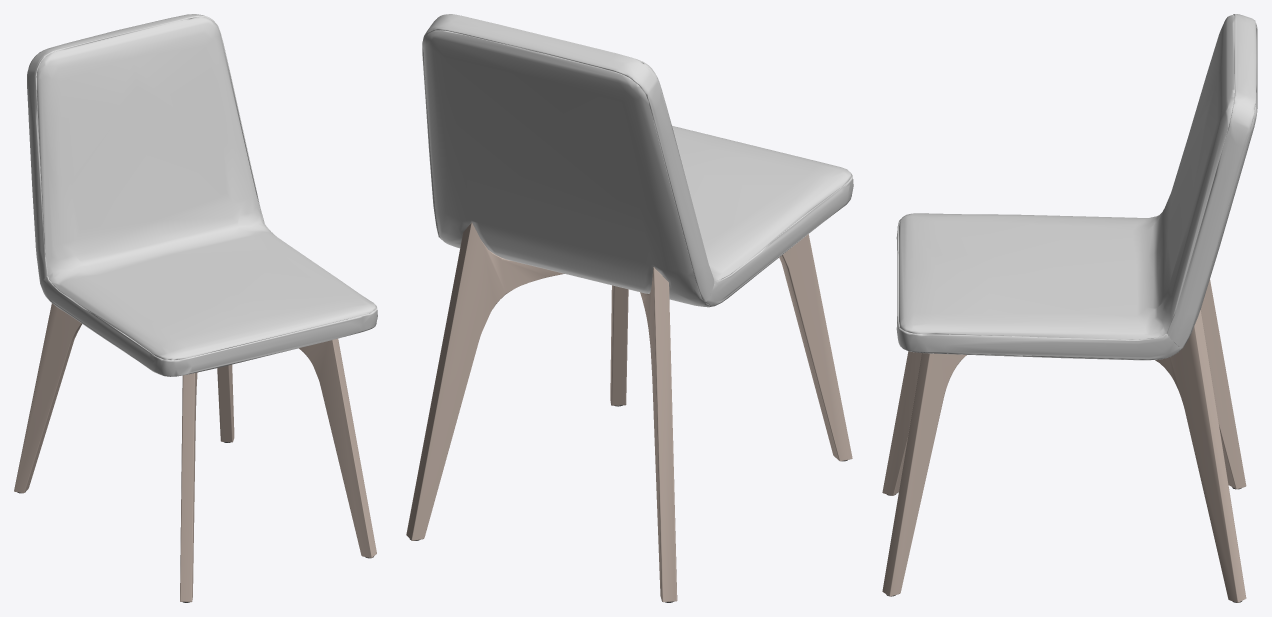
The picture shows the model from 3 angles, left to right: view 1: azimuth 30°, elevation 25°; view 2: azimuth 150°, elevation 25°; view 3: azimuth 270°, elevation 25°; orthographic projection. The views are drawn at different scales.
Visible parts, largest first — view 1: ligneroset_vik_ch_01_mat_1__1, ligneroset_vik_ch_01_mat_1__2; view 2: ligneroset_vik_ch_01_mat_1__1, ligneroset_vik_ch_01_mat_1__2; view 3: ligneroset_vik_ch_01_mat_1__1, ligneroset_vik_ch_01_mat_1__2.
Part boxes in pixels (box(x1,y1,x2,y2)): ligneroset_vik_ch_01_mat_1__1: box(27, 14, 377, 376); ligneroset_vik_ch_01_mat_1__2: box(14, 303, 376, 602); ligneroset_vik_ch_01_mat_1__1: box(422, 14, 853, 307); ligneroset_vik_ch_01_mat_1__2: box(406, 222, 852, 602); ligneroset_vik_ch_01_mat_1__1: box(896, 14, 1257, 360); ligneroset_vik_ch_01_mat_1__2: box(882, 279, 1246, 602).
Bounding box in the file's own units: 0.4464 × 0.8387 × 0.5829.
